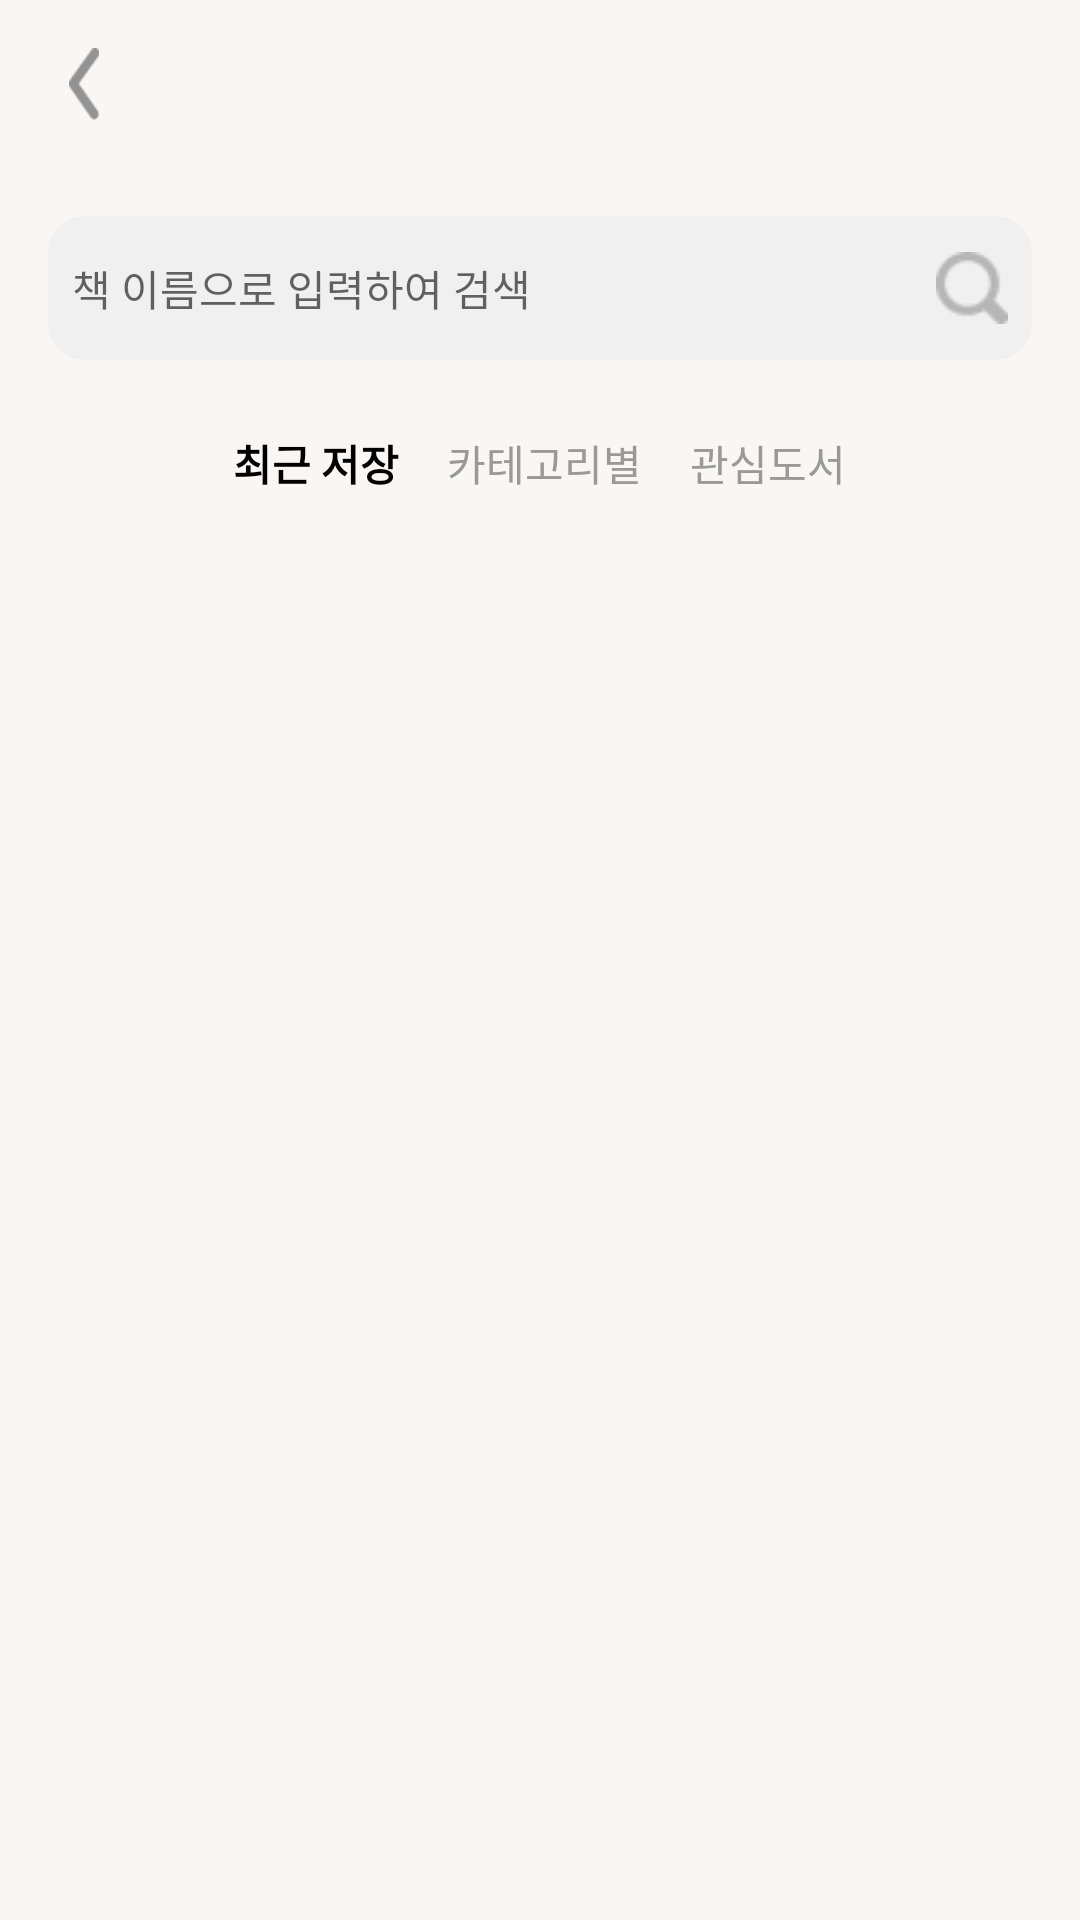

Icons on this 1080×1920 Android screen, each with its box as (x1, y1, x2, y2):
search: (936, 252, 1008, 324)
뒤로가기: (69, 48, 99, 120)
